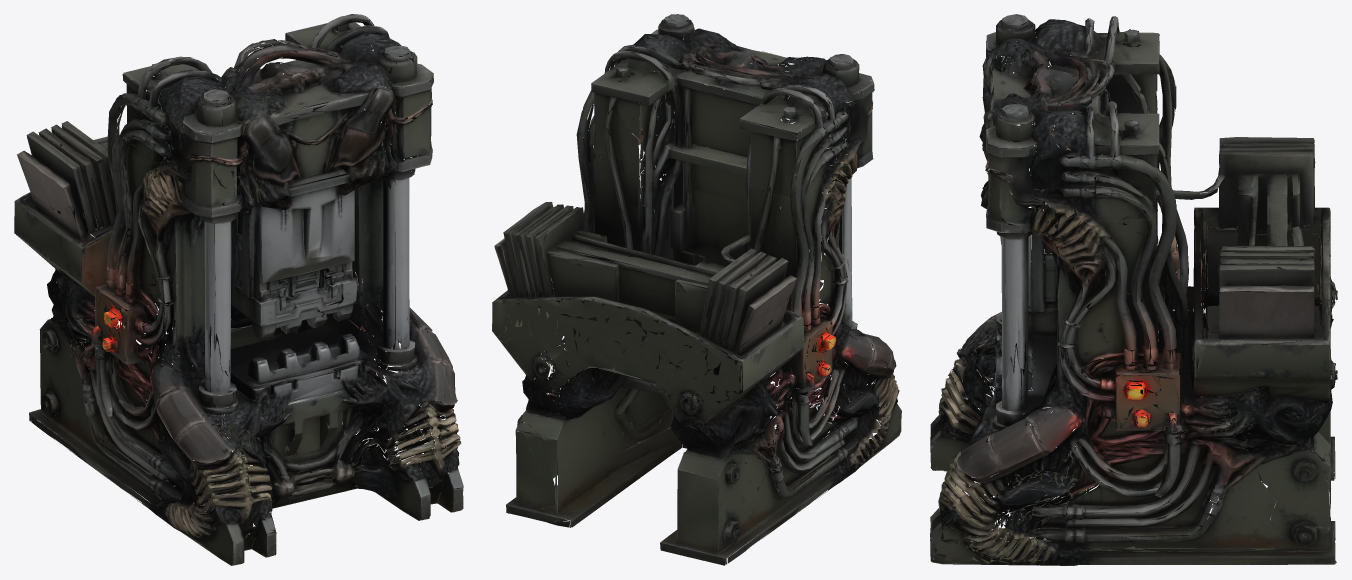
File: tank_reactive_armor_forge.glb
The picture shows the model from 3 angles, left to right: view 1: azimuth 30°, elevation 25°; view 2: azimuth 150°, elevation 25°; view 3: azimuth 270°, elevation 25°; orthographic projection. The views are drawn at different scales.
Parts seen in each view (by area): view 1: node_0; view 2: node_0; view 3: node_0.
Part boxes in pixels (x1=…): node_0: x1=14, y1=14, x2=463, y2=565; node_0: x1=492, y1=14, x2=901, y2=565; node_0: x1=930, y1=14, x2=1337, y2=565.
Bounding box in the file's own units: 0.5853 × 0.8527 × 0.7099.
1 material, 1 textured.
